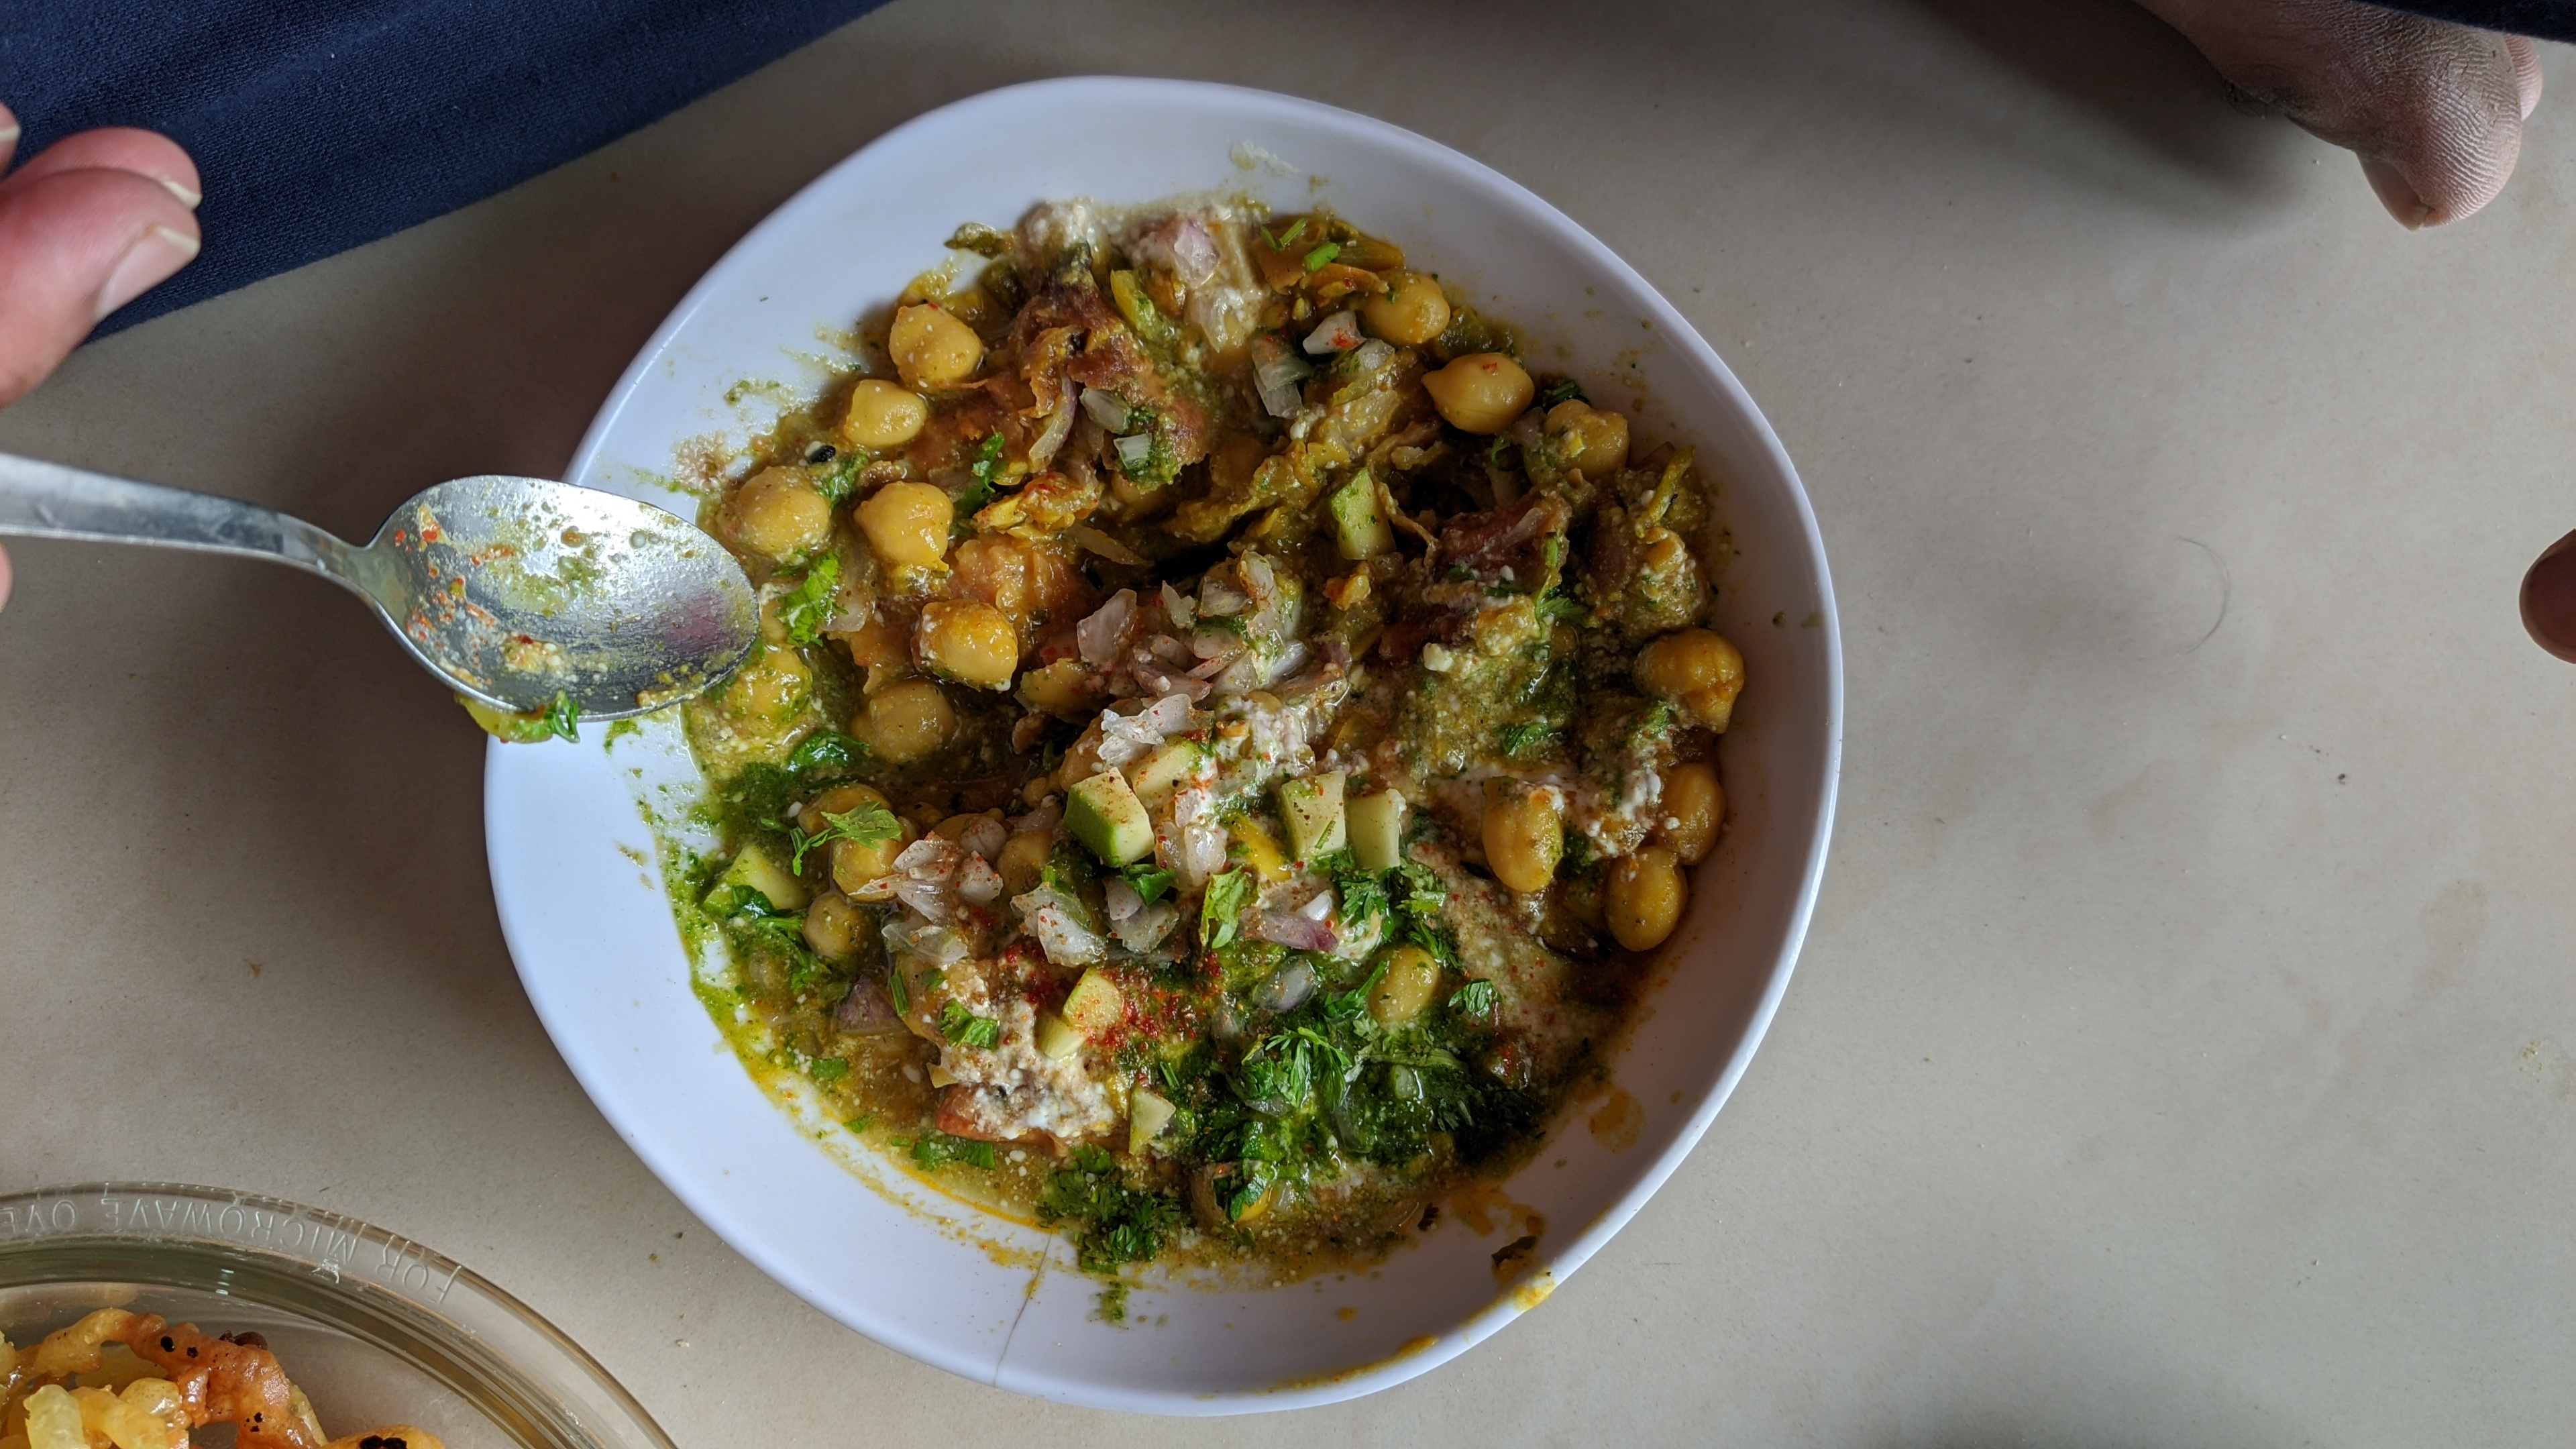food: (679, 174, 1750, 1288), (0, 1299, 450, 1446)
